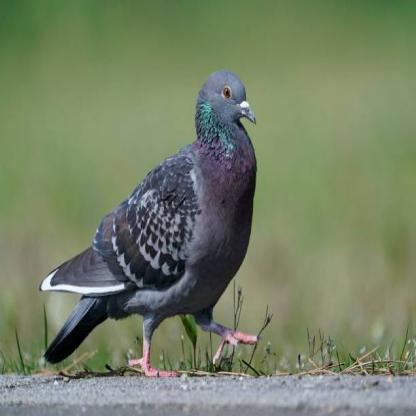Flying Rat: (37, 61, 269, 382)
